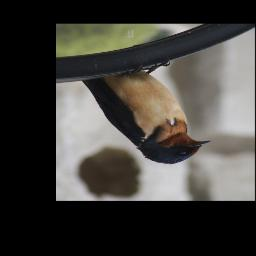Swallow: (79, 57, 212, 165)
